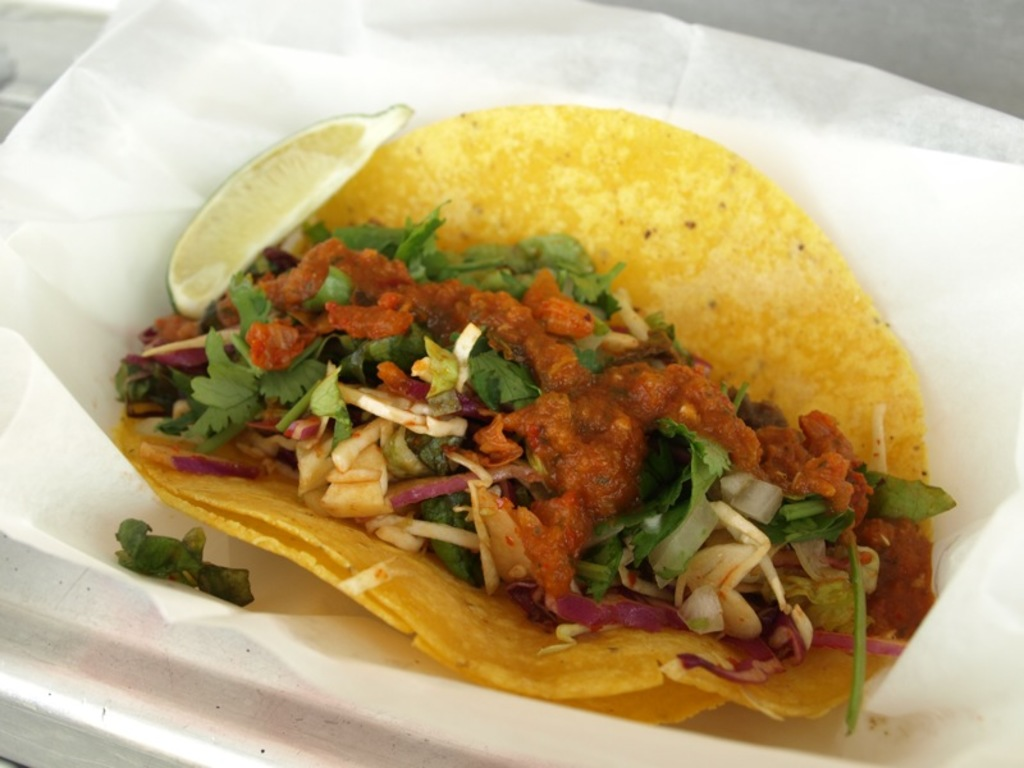taco: (113, 102, 954, 737)
